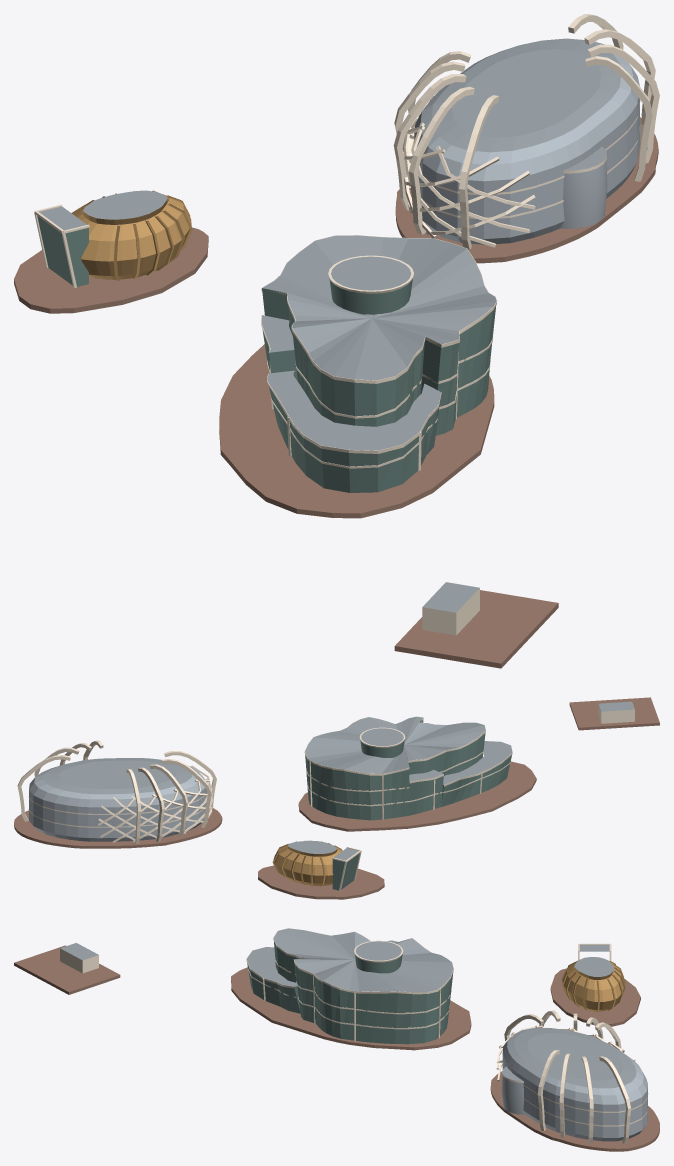
File: seoul-some-sevit.glb
3 views of the same model, one above another, from view 1: azimuth 30°, elevation 25°; view 2: azimuth 150°, elevation 25°; view 3: azimuth 270°, elevation 25° (orthographic). The views are drawn at different scales.
Parts seen in each view (by area): view 1: Some Sevit; view 2: Some Sevit; view 3: Some Sevit.
Boxes of the visible parts, <box> form: Some Sevit: <box>14,14,659,668</box>; Some Sevit: <box>14,697,659,899</box>; Some Sevit: <box>14,928,659,1151</box>.
Bounding box in the file's own units: 184 × 30.89 × 246.
